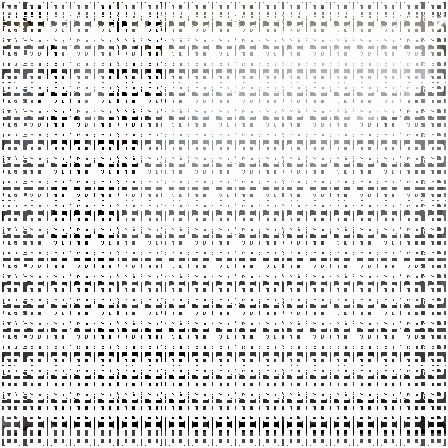bee: (132, 308, 205, 404), (65, 295, 136, 386), (85, 46, 157, 125), (85, 115, 156, 194), (77, 194, 143, 276), (132, 11, 184, 112), (27, 39, 73, 148), (39, 155, 83, 257)
